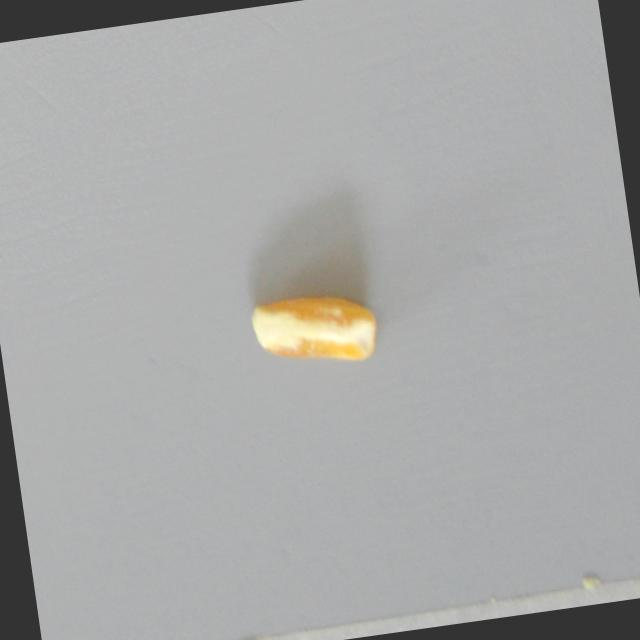pelicula: (246, 282, 381, 374)
